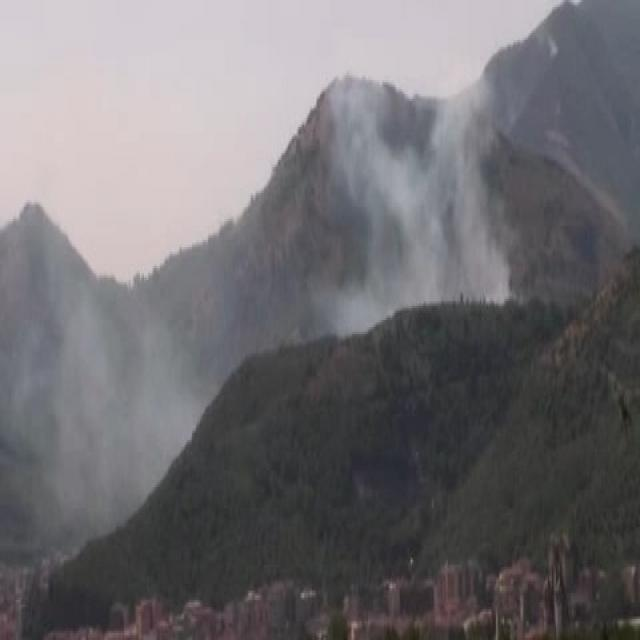smoke: (317, 56, 498, 321), (10, 275, 205, 467)
